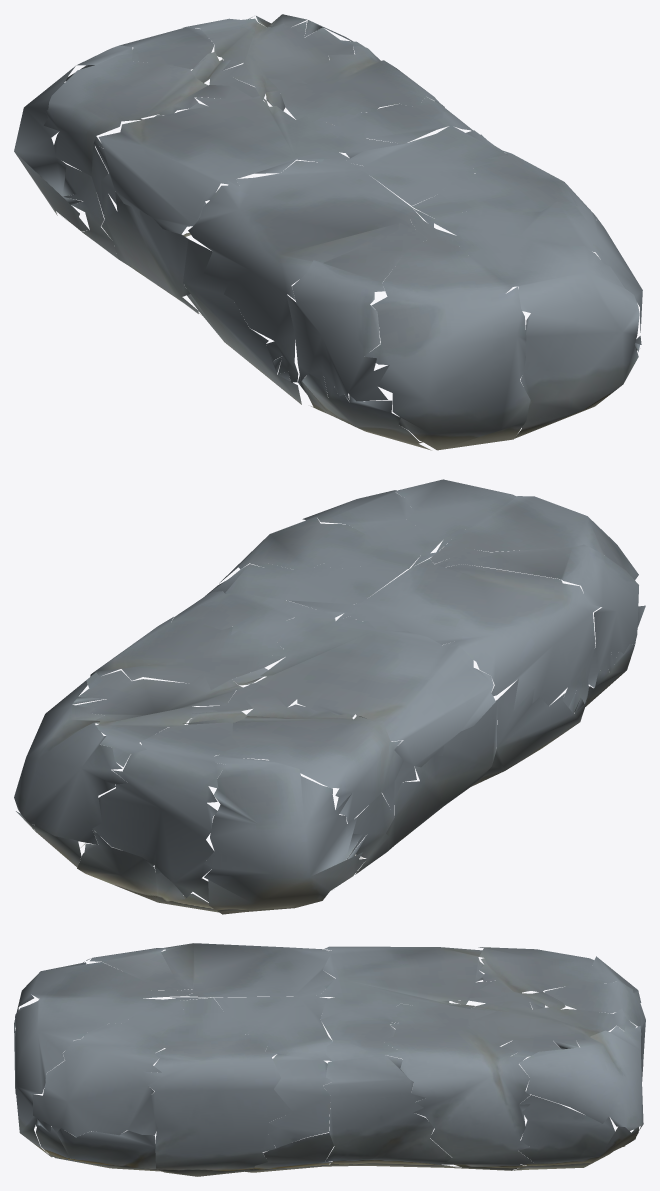
The model's file is boulder-c.glb.
3 views of the same model, one above another, from view 1: azimuth 30°, elevation 25°; view 2: azimuth 150°, elevation 25°; view 3: azimuth 270°, elevation 25° (orthographic). The views are drawn at different scales.
Parts seen in each view (by area): view 1: tripo_node_c978ea5c-479f-4a8f-85c5-becc6565c9c2; view 2: tripo_node_c978ea5c-479f-4a8f-85c5-becc6565c9c2; view 3: tripo_node_c978ea5c-479f-4a8f-85c5-becc6565c9c2.
Part boxes in pixels (x1=…): tripo_node_c978ea5c-479f-4a8f-85c5-becc6565c9c2: x1=14, y1=14, x2=642, y2=450; tripo_node_c978ea5c-479f-4a8f-85c5-becc6565c9c2: x1=14, y1=479, x2=645, y2=914; tripo_node_c978ea5c-479f-4a8f-85c5-becc6565c9c2: x1=14, y1=943, x2=645, y2=1176.
Bounding box in the file's own units: 0.4832 × 0.2359 × 0.9998.
1 material, 1 textured.
